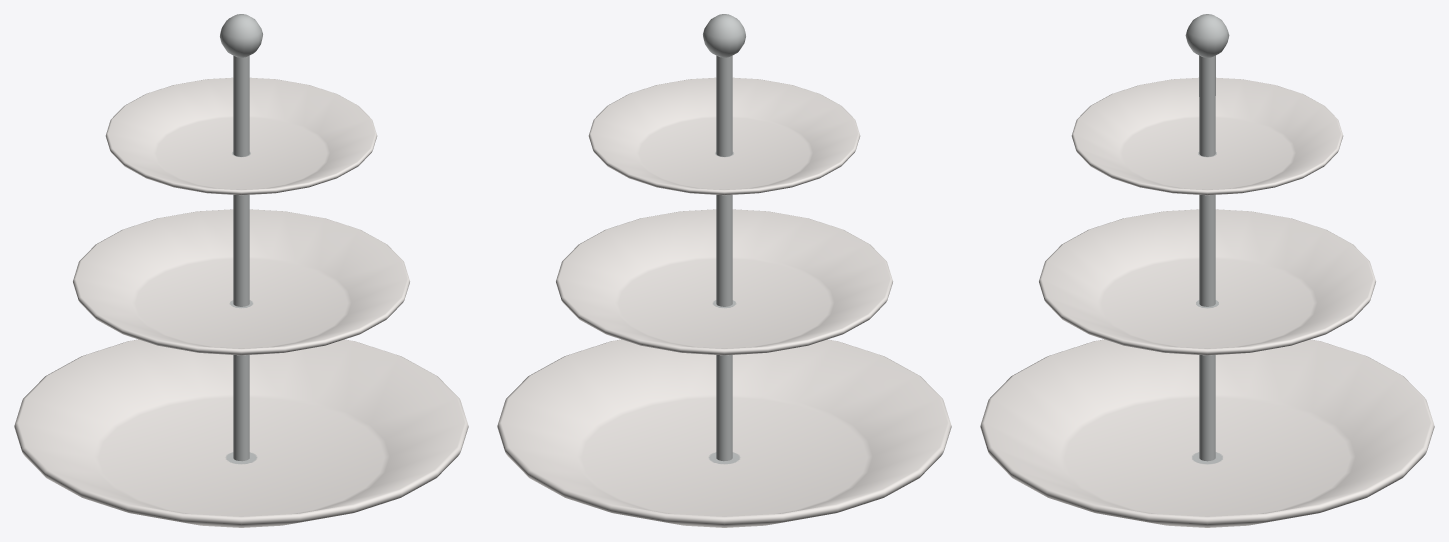
File: BuffetDesserts01_11.FBX
The picture shows the model from 3 angles, left to right: view 1: azimuth 30°, elevation 25°; view 2: azimuth 150°, elevation 25°; view 3: azimuth 270°, elevation 25°; orthographic projection.
Parts seen in each view (by area): view 1: BuffetDesserts01_11; view 2: BuffetDesserts01_11; view 3: BuffetDesserts01_11.
Boxes of the visible parts, <box> form: BuffetDesserts01_11: <box>14,14,468,527</box>; BuffetDesserts01_11: <box>497,14,951,527</box>; BuffetDesserts01_11: <box>980,14,1434,527</box>.
Size of what is drawn, in the model's own units: 0.583 by 0.6338 by 0.583.
